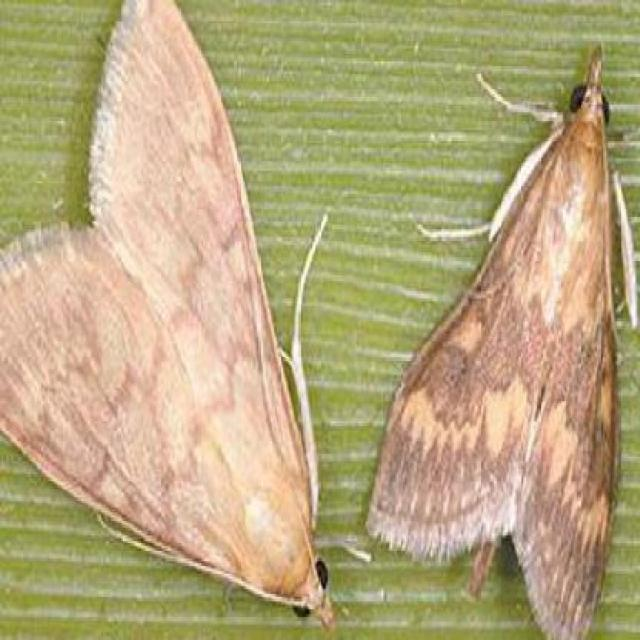stem-borer: (0, 0, 349, 640), (363, 41, 638, 640)
